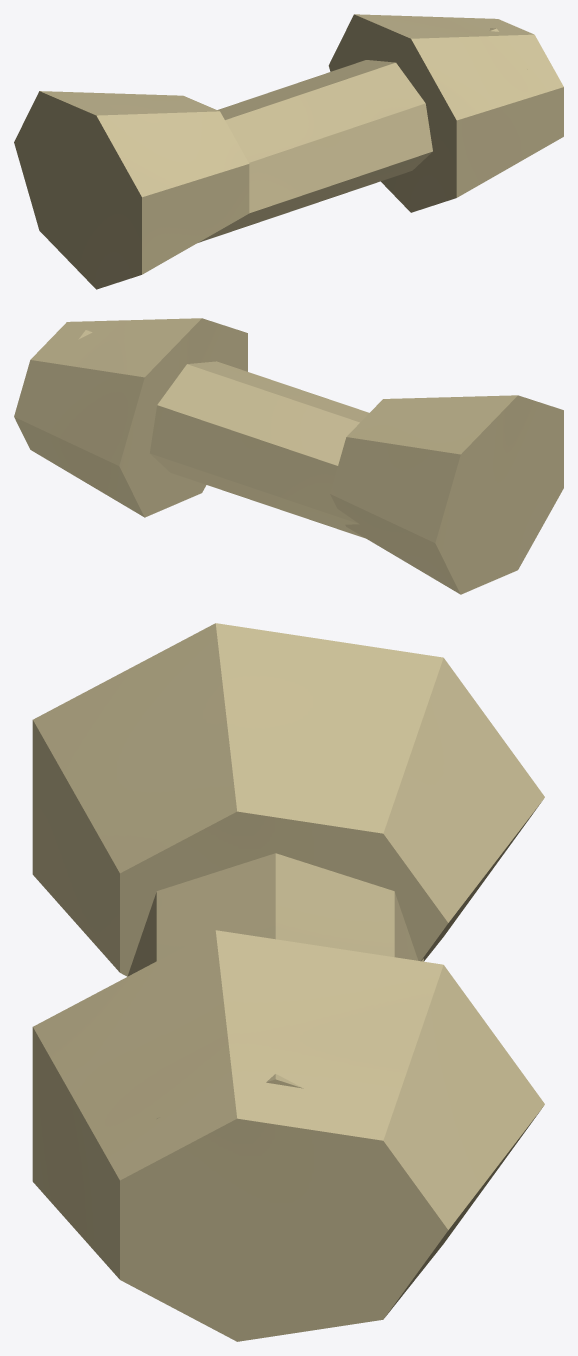
File: WarrensC_WVC071_BoneFragment_Mars_SM.fbx
3 renders of one model, top to bottom at view 1: azimuth 30°, elevation 25°; view 2: azimuth 150°, elevation 25°; view 3: azimuth 270°, elevation 25°, orthographic. The views are drawn at different scales.
Visible parts, largest first — view 1: WarrensC_WVC071_BoneFragment_Mars_SM.001; view 2: WarrensC_WVC071_BoneFragment_Mars_SM.001; view 3: WarrensC_WVC071_BoneFragment_Mars_SM.001.
Boxes of the visible parts, x1,y1,x2,y2 form: WarrensC_WVC071_BoneFragment_Mars_SM.001: [14, 14, 563, 289]; WarrensC_WVC071_BoneFragment_Mars_SM.001: [14, 318, 563, 594]; WarrensC_WVC071_BoneFragment_Mars_SM.001: [32, 623, 544, 1341].
Bounding box in the file's own units: 40 × 20 × 15.
